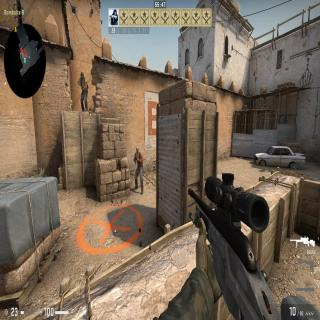T-Body: (133, 146, 144, 192), (78, 70, 90, 111)
T-Head: (136, 146, 139, 154), (80, 72, 84, 78)
